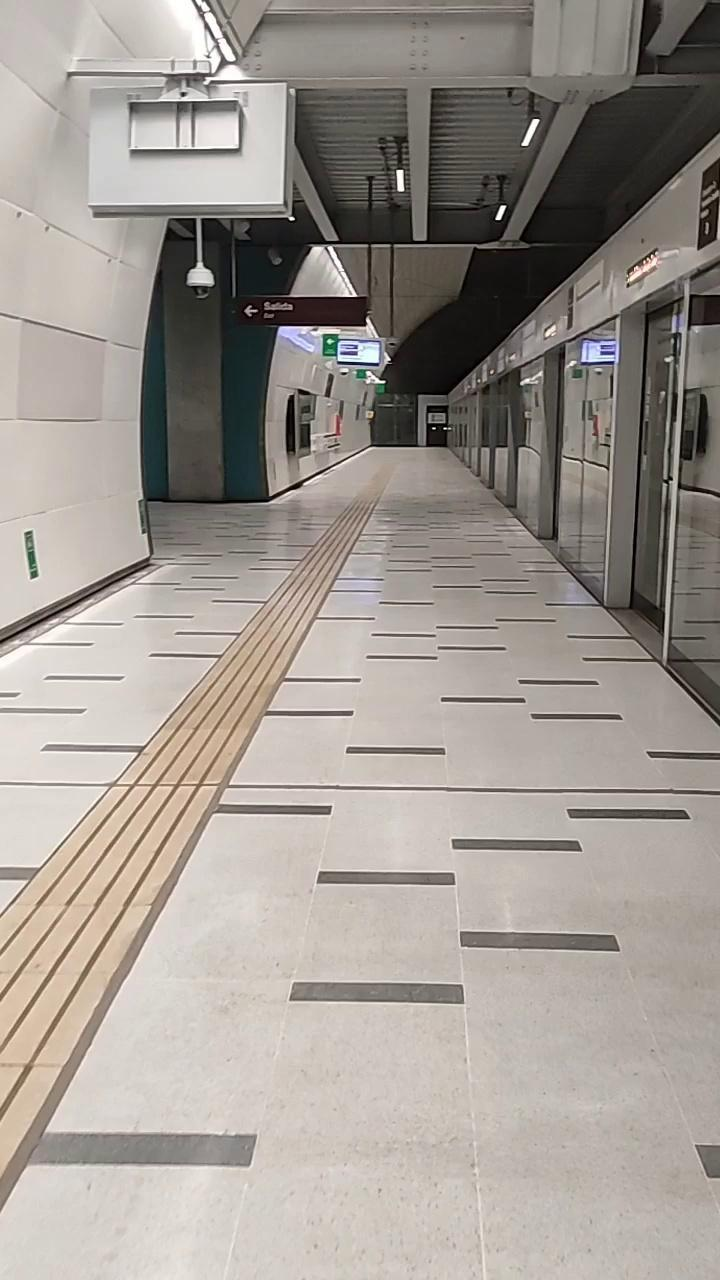left arrow: (236, 300, 266, 320)
